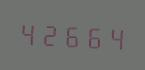four: (18, 17, 38, 48), (102, 21, 122, 52)
six: (60, 19, 80, 50), (81, 20, 101, 51)
two: (39, 18, 59, 49)
